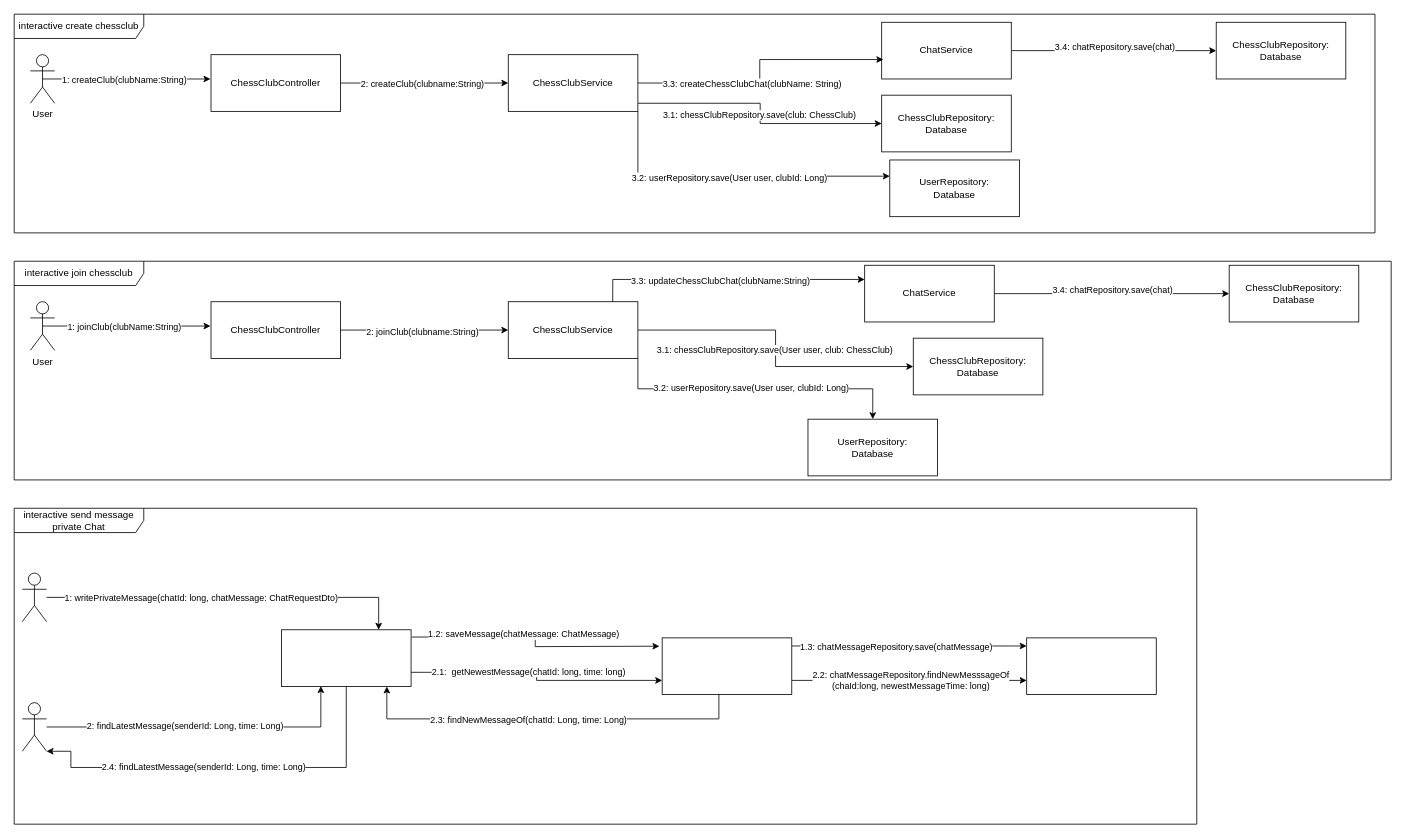
The diagram is 1405 pixels wide and 838 high, and some of its shapes have lost their labels. The centre of each missing label's shape, as x and y in pixels:
"ChatController" goes at (x=346, y=657).
"ChatMessageRepository: Database" goes at (x=1091, y=666).
"ChatMessageService" goes at (x=726, y=666).
"User 1" goes at (x=34, y=597).
"User 2" goes at (x=34, y=726).
